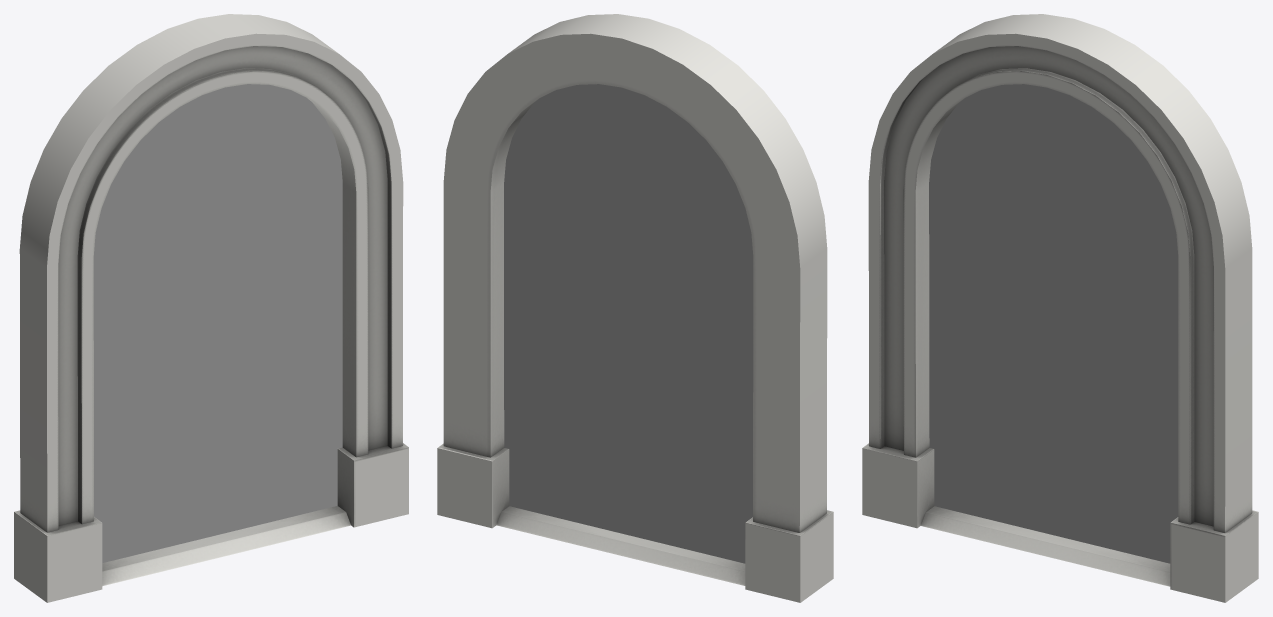
The model's file is portal_archway.fbx.
3 views of the same model, side by side, from view 1: azimuth 30°, elevation 25°; view 2: azimuth 150°, elevation 25°; view 3: azimuth 330°, elevation 25° (orthographic).
Parts seen in each view (by area): view 1: pPlane2; view 2: pPlane2; view 3: pPlane2.
Part boxes in pixels (x1,y1,x2,y2): pPlane2: (14, 14, 408, 602); pPlane2: (437, 14, 833, 602); pPlane2: (862, 14, 1258, 602).
Size of the model in its own units: 1.59 by 2.17 by 0.2563.
2 materials, 1 textured.
